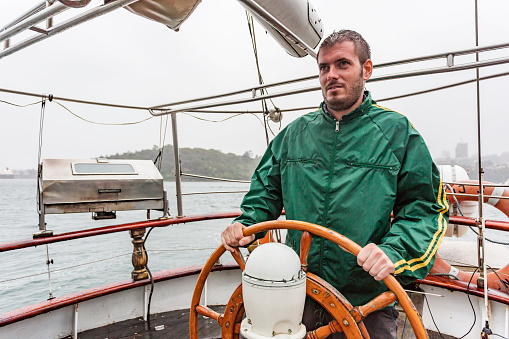em pe: (214, 17, 435, 324)
